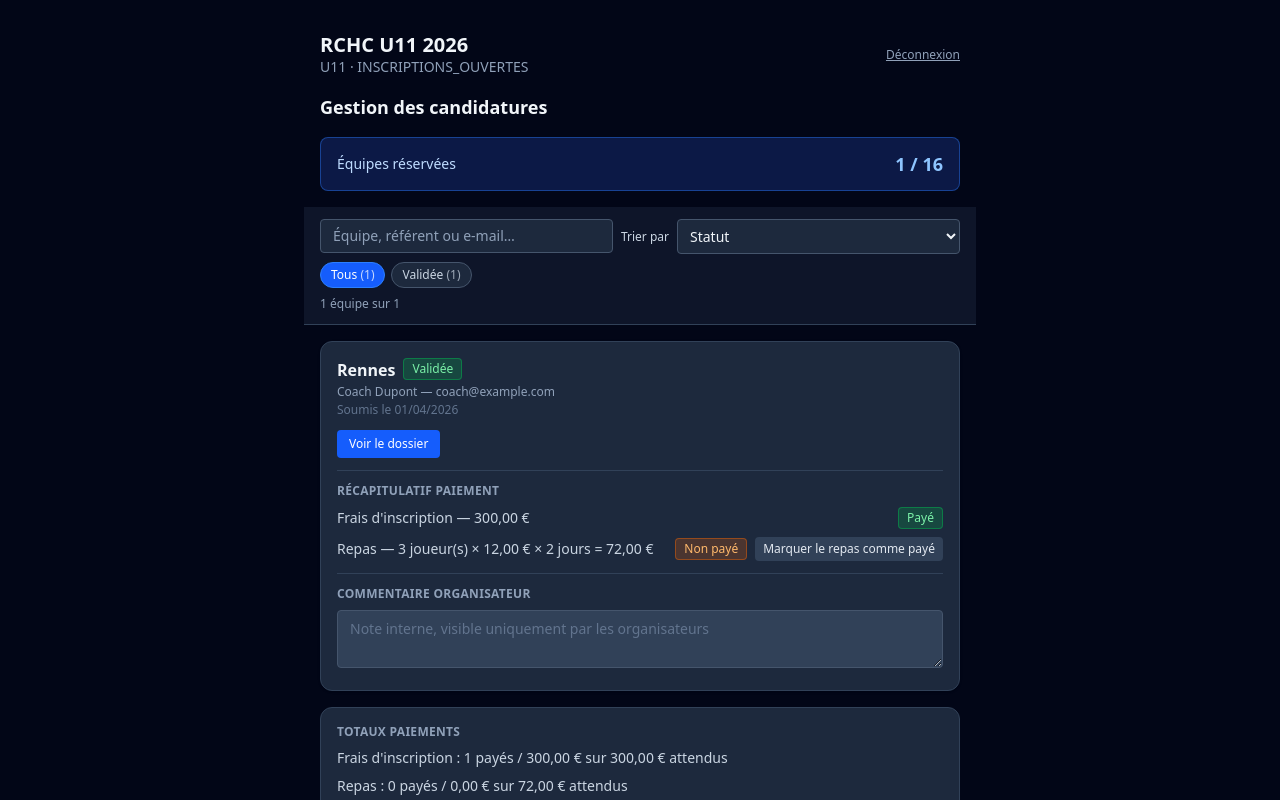
Scenario: InscriptionPage — vue organisateur — récapitulatif de paiement › appelle marquerPaiementRepas puis recharge la liste au clic sur l'action de bascule (AC4)
The width and height of the screenshot is (1280, 800).
expect the text "Rennes" is shown: met, box [337, 358, 396, 382]
Click the button "Marquer le repas comme payé" at (849, 549), box [755, 537, 943, 561]
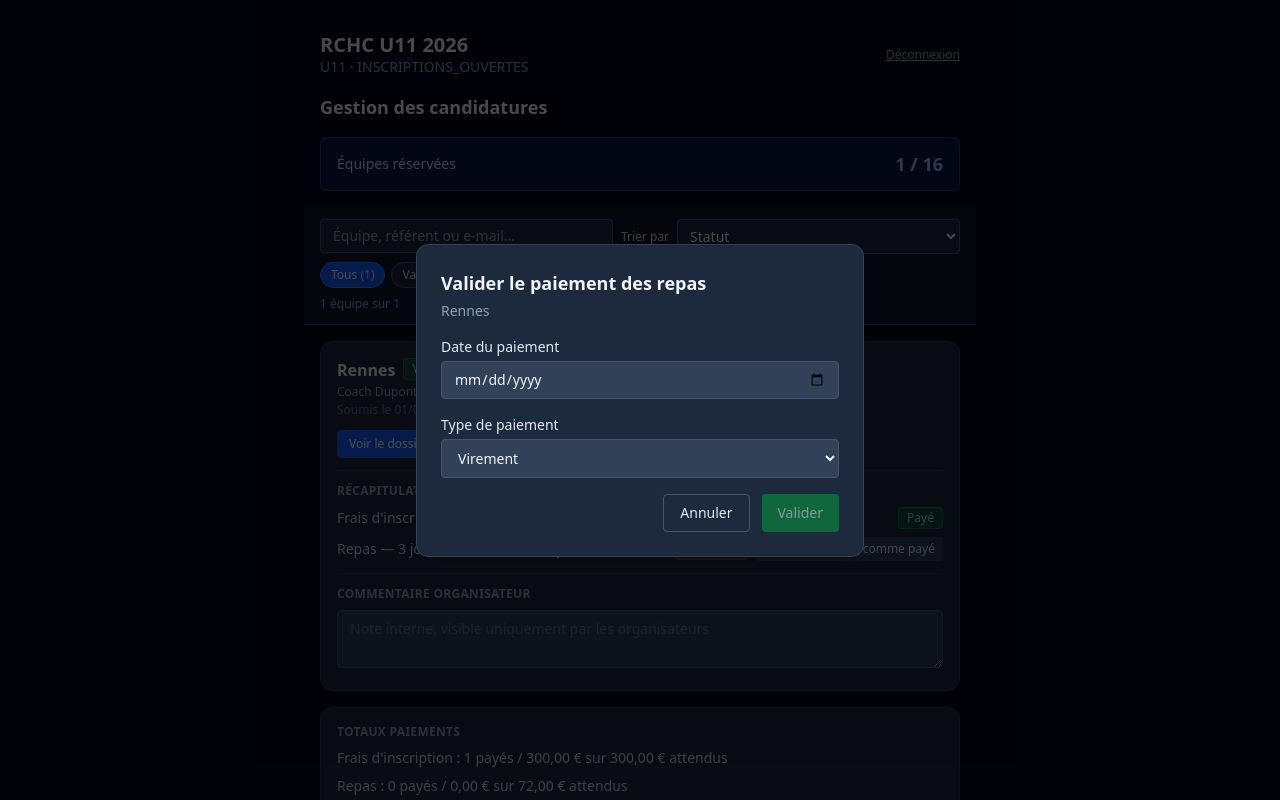
expect the heading "Valider le paiement des repas" is shown: met, box [441, 270, 706, 294]
Type "2026-09-10" into the date field labelled "Date du paiement" at (640, 380), box [441, 360, 839, 398]
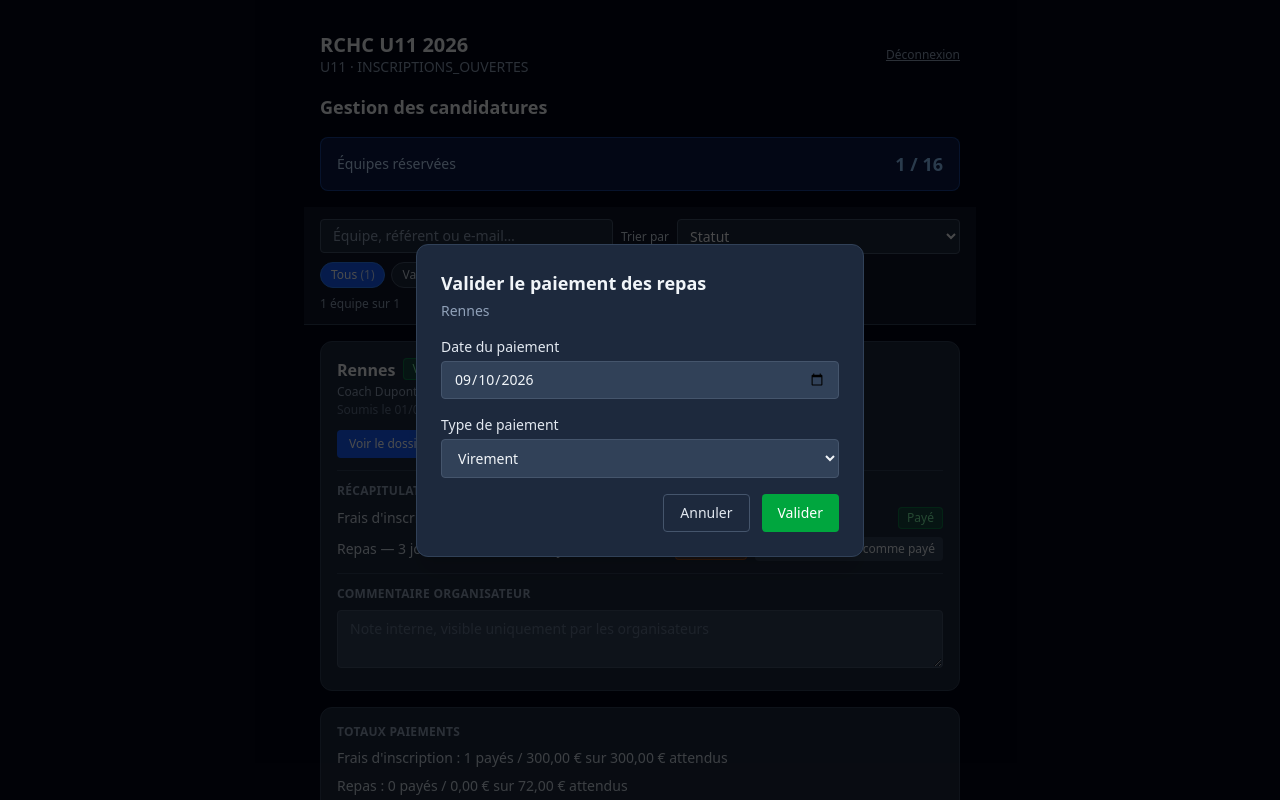
Select "Chèque" in the dropdown labelled "Type de paiement" at (640, 458), box [441, 438, 839, 478]
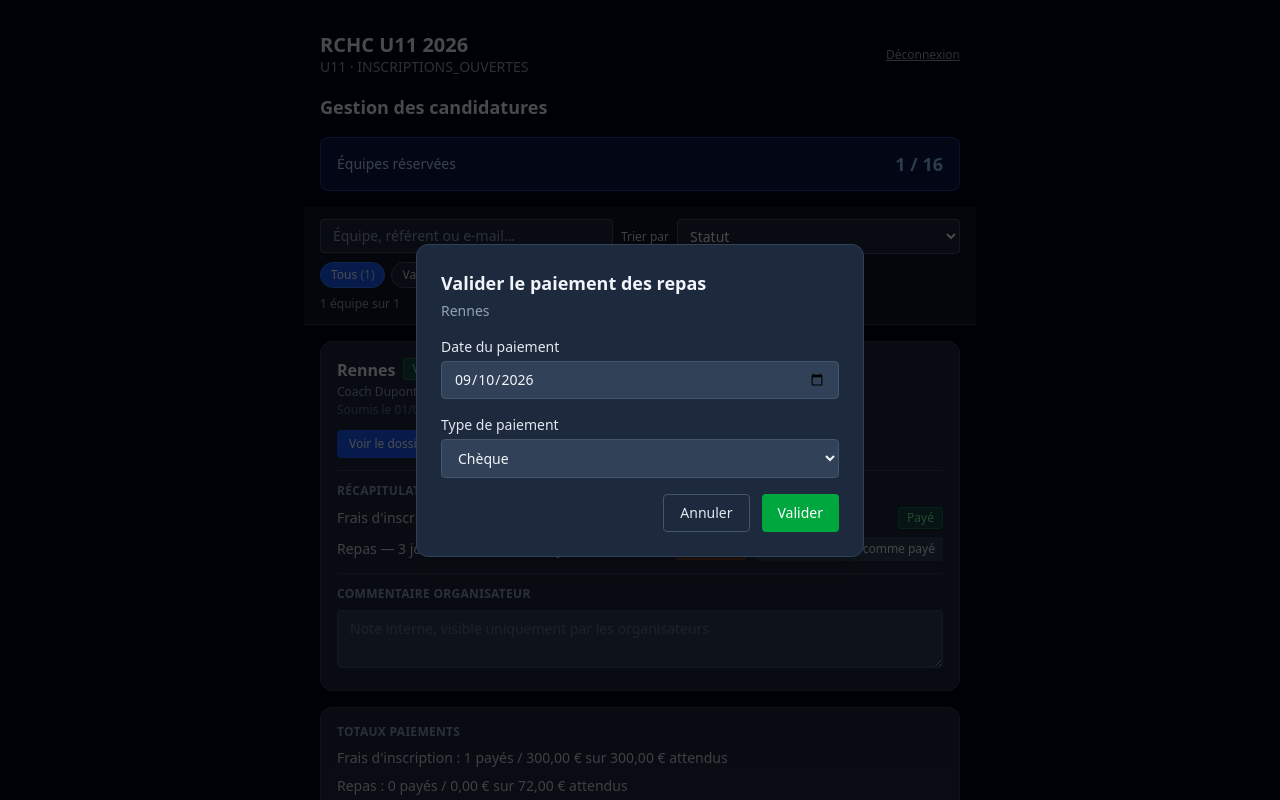
Click the button "Valider" at (800, 512), box [762, 494, 839, 532]
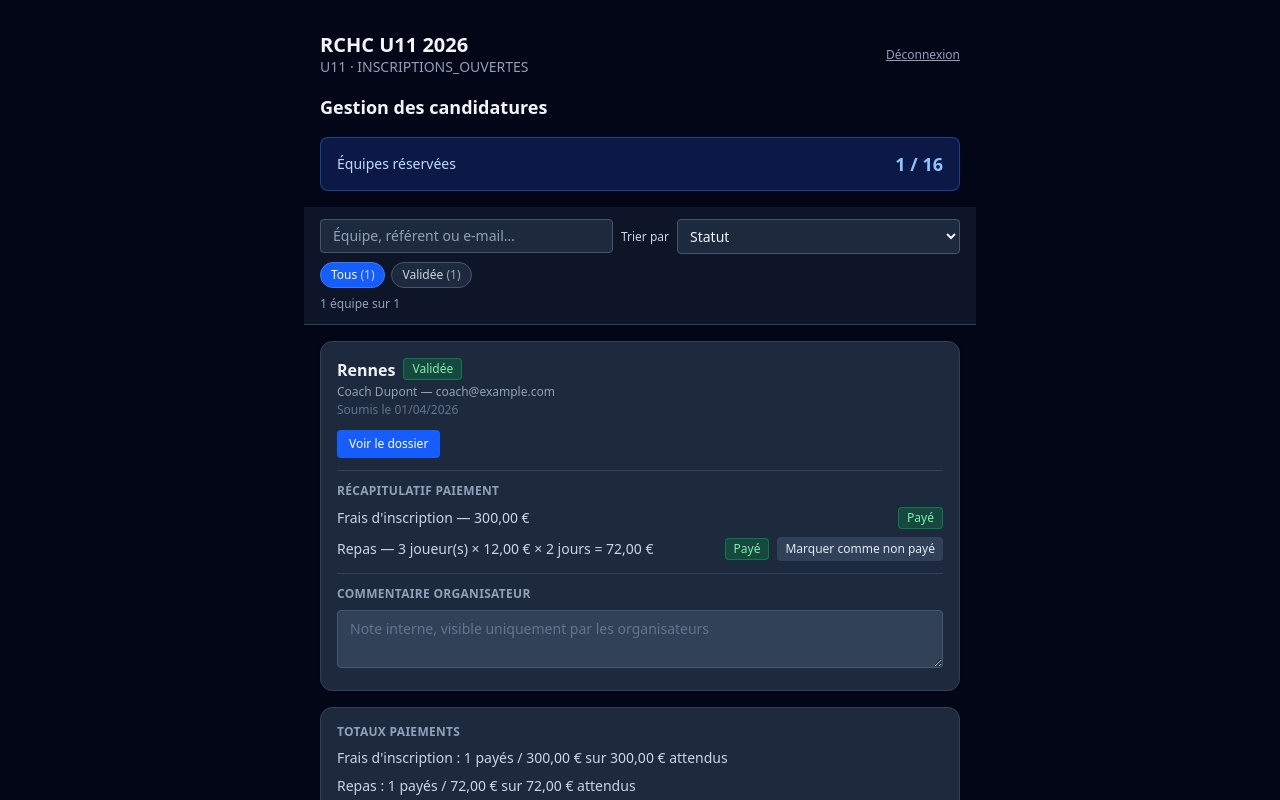
expect the button "Marquer comme non payé" is shown: met, box [778, 537, 943, 561]
